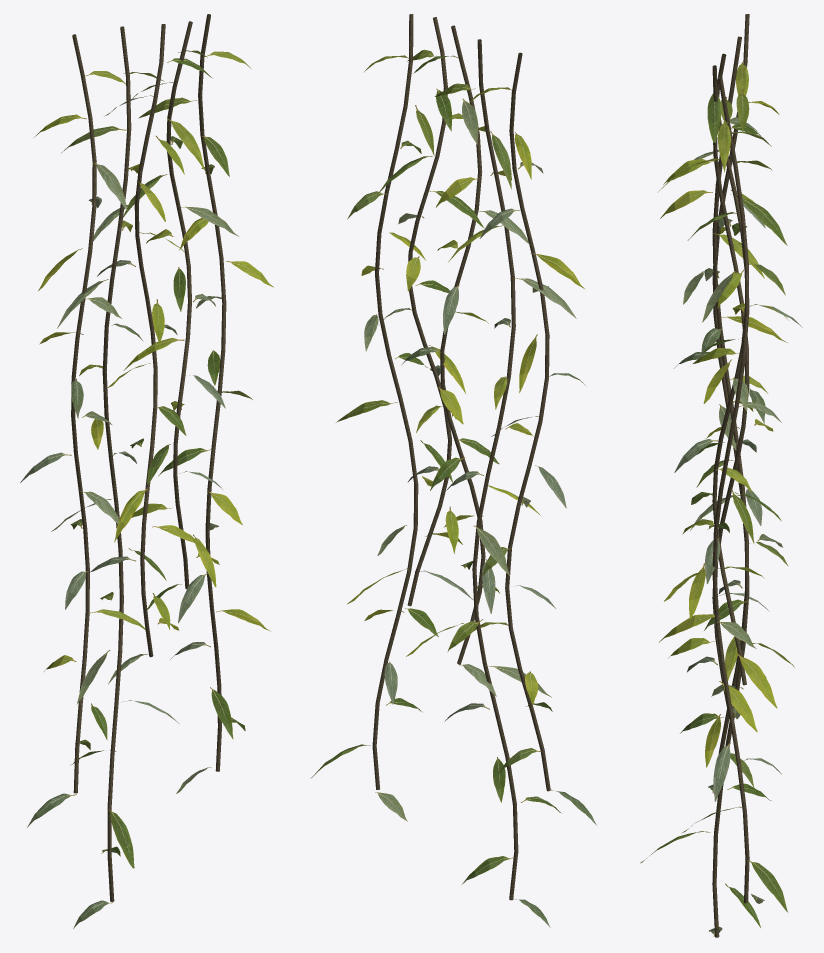
Rendered from vine_02.glb.
The picture shows the model from 3 angles, left to right: view 1: azimuth 30°, elevation 25°; view 2: azimuth 150°, elevation 25°; view 3: azimuth 270°, elevation 25°; orthographic projection. The views are drawn at different scales.
Visible parts, largest first — view 1: vine_02; view 2: vine_02; view 3: vine_02.
Boxes of the visible parts, <box> form: vine_02: <box>20,14,273,928</box>; vine_02: <box>310,14,596,927</box>; vine_02: <box>640,14,802,937</box>.
Bounding box in the file's own units: 1.77 × 5.61 × 0.9411.
2 materials, 2 textured.
